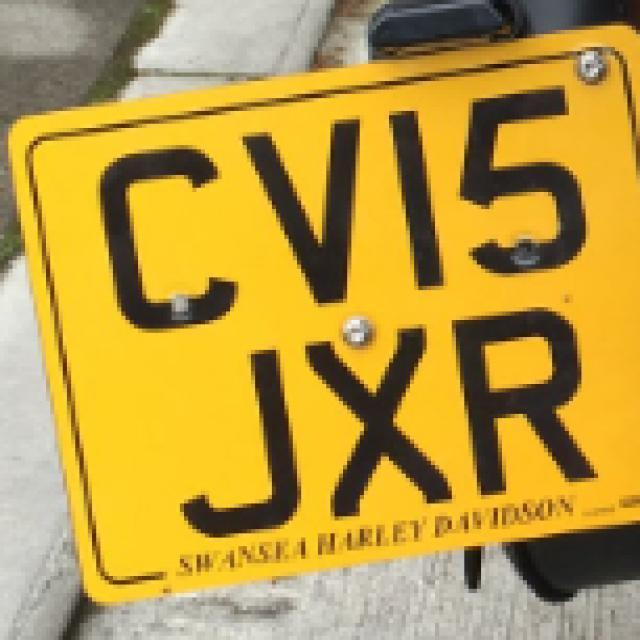5: (439, 72, 612, 293)
C: (78, 133, 251, 349)
I: (374, 97, 460, 302)
J: (145, 335, 317, 555)
R: (445, 297, 607, 505)
V: (227, 107, 386, 319)
X: (290, 313, 465, 523)
